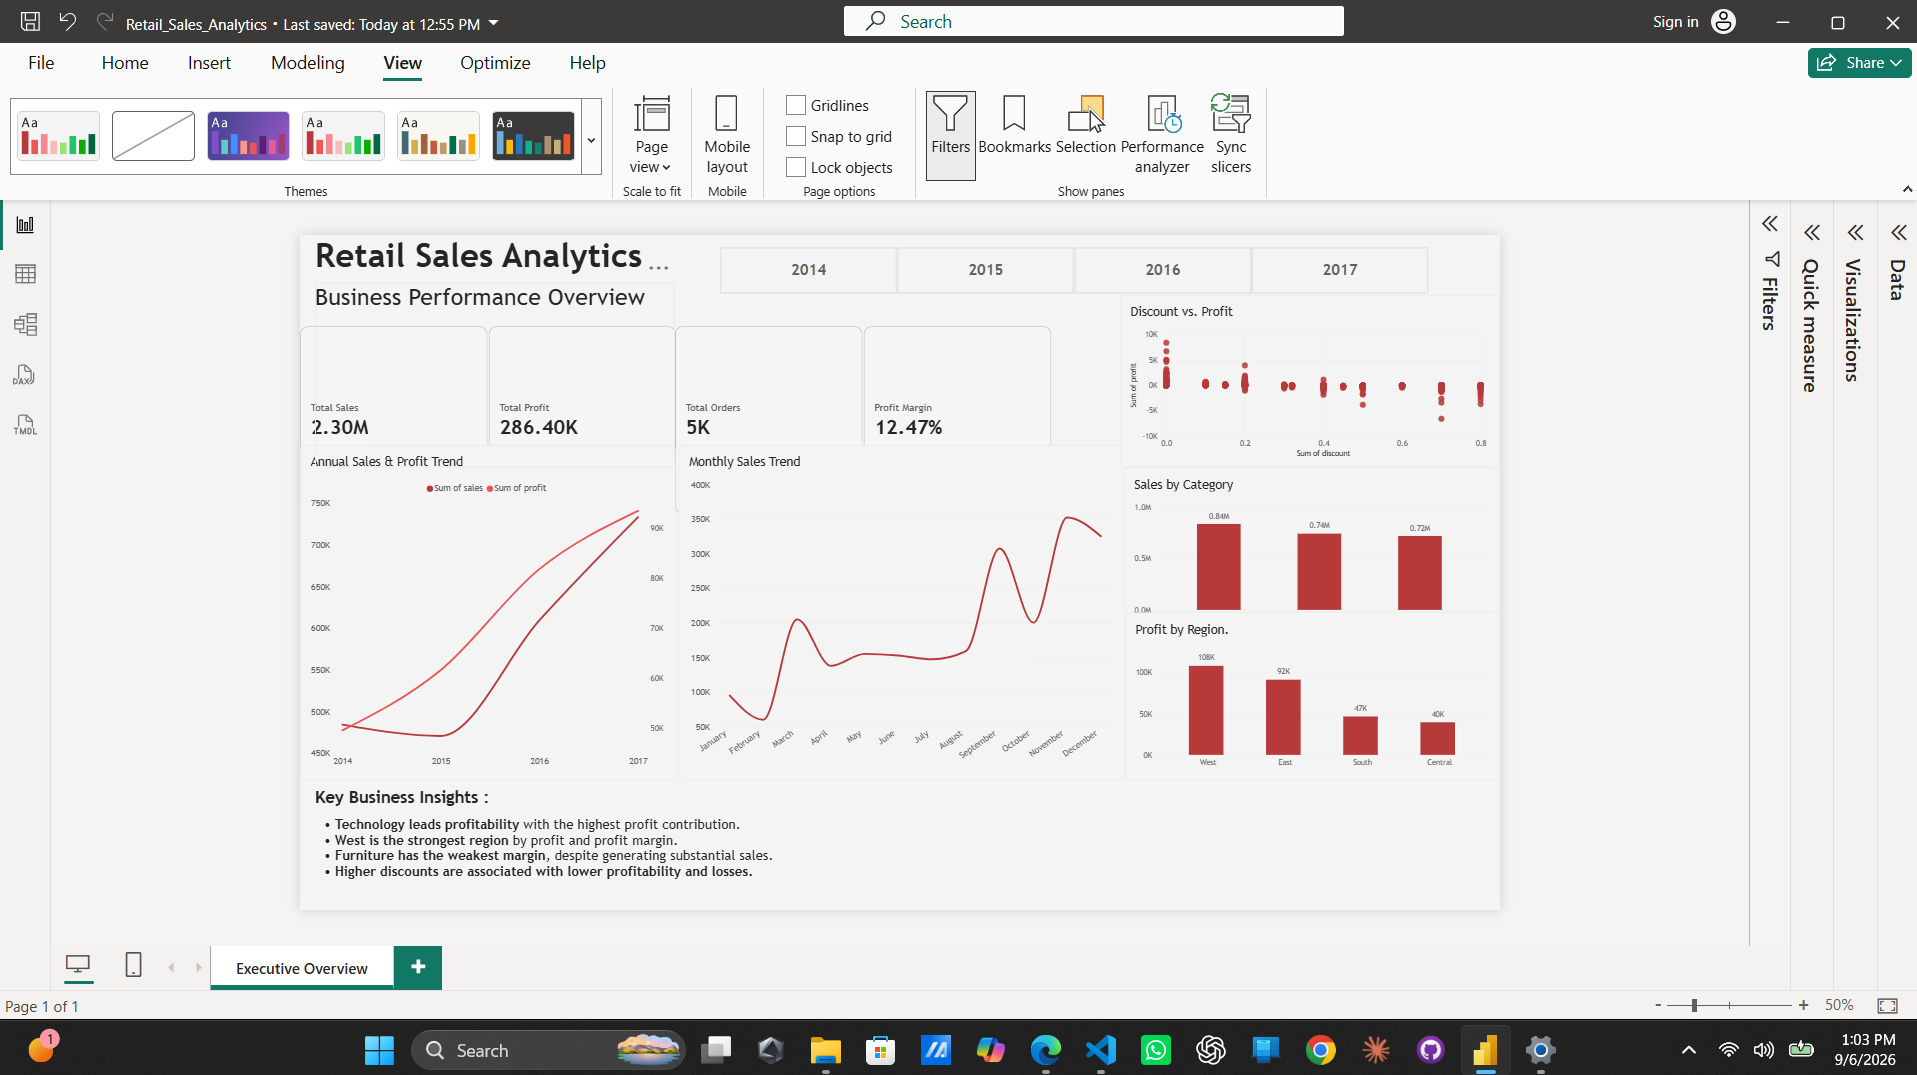

This screenshot's page, from the dashboard's own definition file:
{"tool":"powerbi","page":{"name":"Executive Overview","canvas":[1920,1080],"ordinal":0},"visuals":[{"type":"cardVisual","title":"Total Sales","fields":{"Data":["Sum(retail_sales_analysis retail_sales.sales)"]},"box":[0,145.4,300,300],"z":0},{"type":"cardVisual","fields":{"Data":["Sum(retail_sales_analysis retail_sales.profit)"]},"box":[301.5,145.4,300,300],"z":1000},{"type":"cardVisual","fields":{"Data":["retail_sales_analysis retail_sales.Total Orders"]},"box":[600.8,145.4,300.5,300.5],"z":2000},{"type":"cardVisual","fields":{"Data":["retail_sales_analysis retail_sales.Profit Margin"]},"box":[902.3,145.4,300,300],"z":3000},{"type":"lineChart","title":"Annual Sales & Profit Trend","fields":{"Category":["retail_sales_analysis retail_sales.order_date.Variation.Date Hierarchy.Year","retail_sales_analysis retail_sales.order_date.Variation.Date Hierarchy.Month"],"Y":["Sum(retail_sales_analysis retail_sales.sales)"],"Y2":["Sum(retail_sales_analysis retail_sales.profit)"]},"box":[0,336.1,601,535.2],"z":4000},{"type":"clusteredColumnChart","title":"Sales by Category","fields":{"Category":["retail_sales_analysis retail_sales.category"],"Y":["Sum(retail_sales_analysis retail_sales.sales)"]},"box":[1318,372,601,267.6],"z":5000},{"type":"clusteredColumnChart","title":"Profit by Region.","fields":{"Category":["retail_sales_analysis retail_sales.region"],"Y":["Sum(retail_sales_analysis retail_sales.profit)"]},"box":[1320,604,601,267.6],"z":6000},{"type":"lineChart","title":"Monthly Sales Trend","fields":{"Category":["retail_sales_analysis retail_sales.order_date.Variation.Date Hierarchy.Year","retail_sales_analysis retail_sales.order_date.Variation.Date Hierarchy.Month"],"Y":["Sum(retail_sales_analysis retail_sales.sales)"]},"box":[606,336,714.2,535.2],"z":7000},{"type":"textbox","box":[23.5,0,553.8,224.5],"z":8000},{"type":"slicer","fields":{"Values":["retail_sales_analysis retail_sales.order_date.Variation.Date Hierarchy.Year"]},"box":[652.1,17.1,1171.7,77.4],"z":8001},{"type":"textbox","box":[23.5,77,577.3,295.1],"z":8002},{"type":"textbox","box":[23.9,884.6,818.9,194.6],"z":8003},{"type":"scatterChart","title":"Discount vs. Profit","fields":{"Category":["retail_sales_analysis retail_sales.row_id"],"X":["Sum(retail_sales_analysis retail_sales.discount)"],"Y":["Sum(retail_sales_analysis retail_sales.profit)"]},"box":[1312,96,608,276],"z":8004}]}

Visuals, with their boxes on the page's 1920x1080 design canvas (x1, y1, x2, y2). These are canvas units, not pixel positions in the 1917x1075 screenshot, which may show the page scaled, cropped or inside an application window:
"Total Sales" cardVisual: {"x1": 0, "y1": 145, "x2": 300, "y2": 445}
cardVisual - Sum(retail_sales_analysis retail_sales.profit): {"x1": 302, "y1": 145, "x2": 602, "y2": 445}
cardVisual - retail_sales_analysis retail_sales.Total Orders: {"x1": 601, "y1": 145, "x2": 901, "y2": 446}
cardVisual - retail_sales_analysis retail_sales.Profit Margin: {"x1": 902, "y1": 145, "x2": 1202, "y2": 445}
"Annual Sales & Profit Trend" lineChart: {"x1": 0, "y1": 336, "x2": 601, "y2": 871}
"Sales by Category" clusteredColumnChart: {"x1": 1318, "y1": 372, "x2": 1919, "y2": 640}
"Profit by Region." clusteredColumnChart: {"x1": 1320, "y1": 604, "x2": 1921, "y2": 872}
"Monthly Sales Trend" lineChart: {"x1": 606, "y1": 336, "x2": 1320, "y2": 871}
textbox: {"x1": 24, "y1": 0, "x2": 577, "y2": 224}
slicer - retail_sales_analysis retail_sales.order_date.Variation.Date Hierarchy.Year: {"x1": 652, "y1": 17, "x2": 1824, "y2": 94}
textbox: {"x1": 24, "y1": 77, "x2": 601, "y2": 372}
textbox: {"x1": 24, "y1": 885, "x2": 843, "y2": 1079}
"Discount vs. Profit" scatterChart: {"x1": 1312, "y1": 96, "x2": 1920, "y2": 372}
